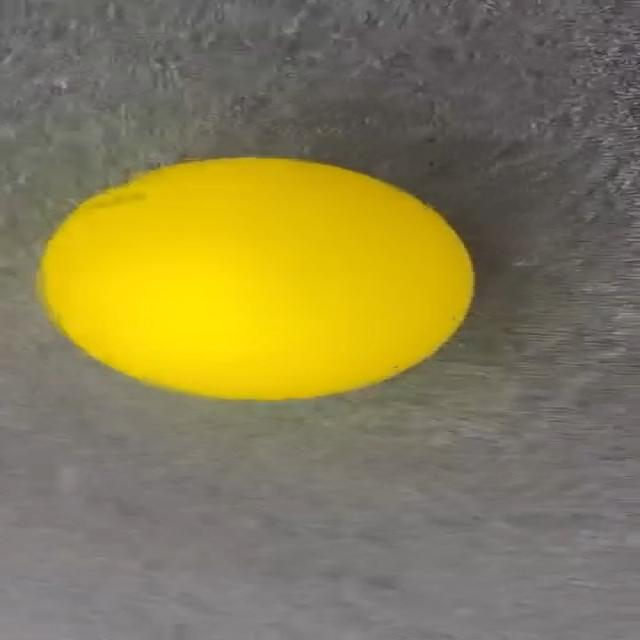Fuels: (39, 157, 471, 399)
